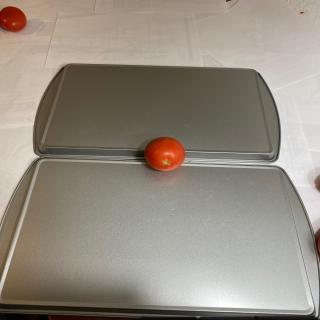Tomato: (144, 137, 186, 171), (0, 6, 27, 32)
